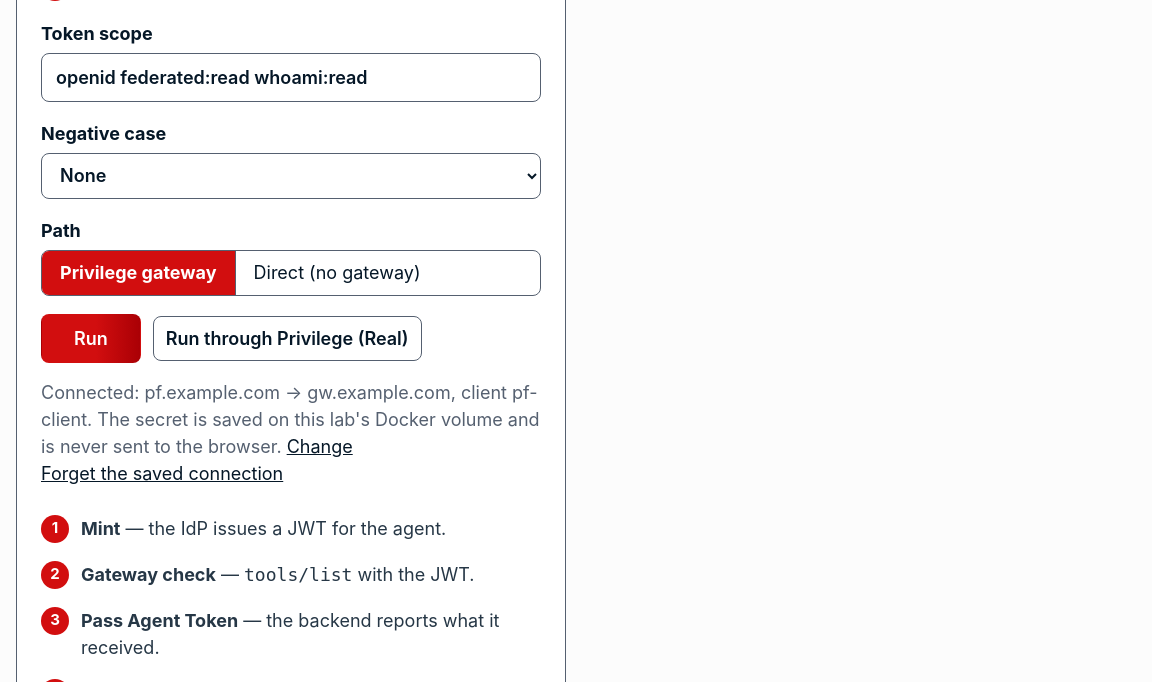
Test: Workload Identity Lab › the Real button › already connected: the button switches to Real and runs, with no form; the status line names the connection
This screenshot has width=1152, height=682.
(page scrolled)
Click the button with test id "real-btn": (287,338) [153,316,422,361]
(page scrolled)
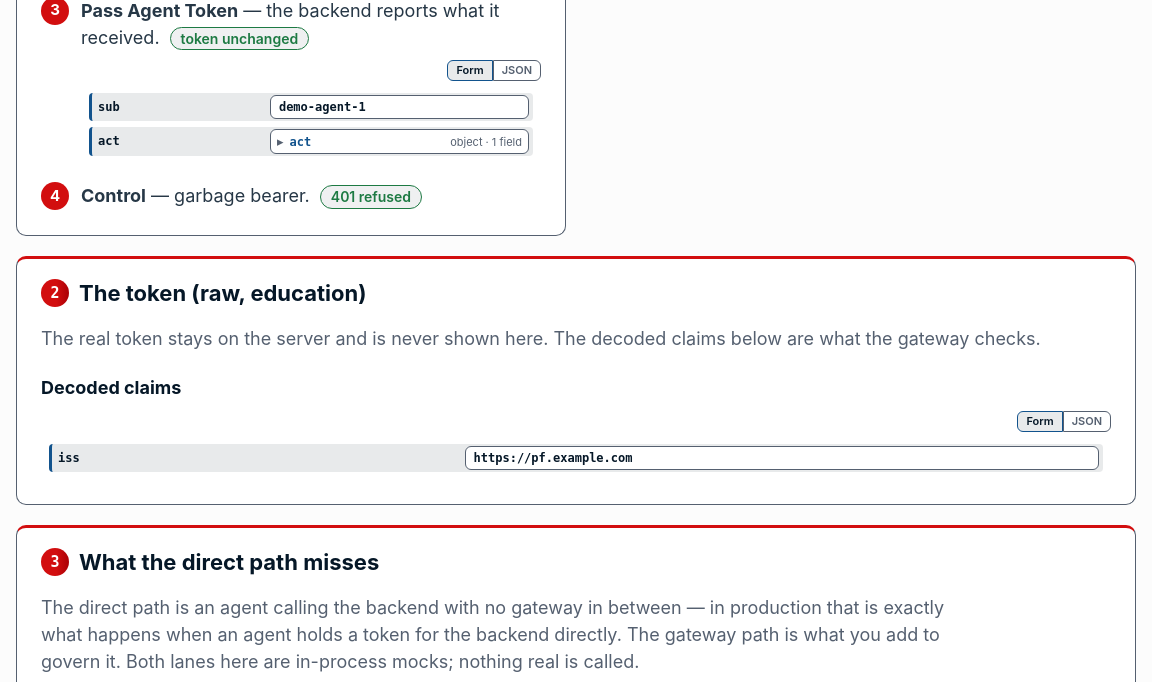
Now the text with test id "token-held" is shown, box [41,325,1111,352]
